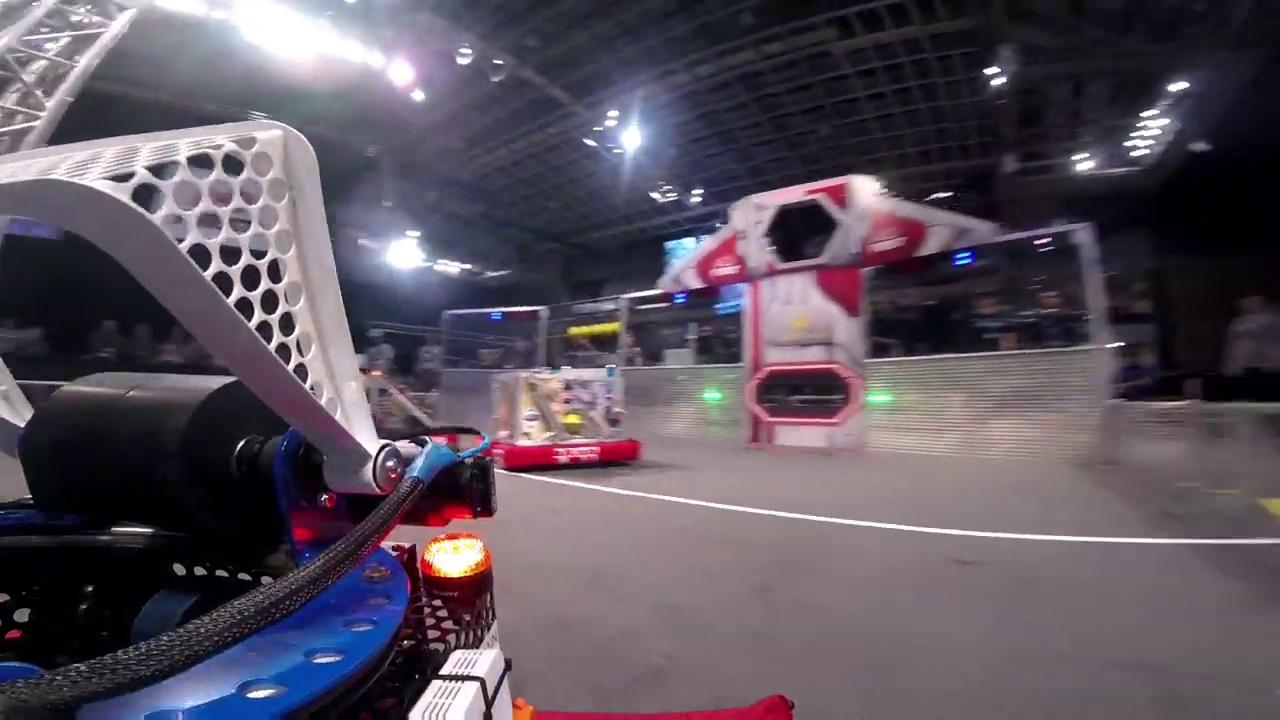robot: (474, 366, 646, 476)
